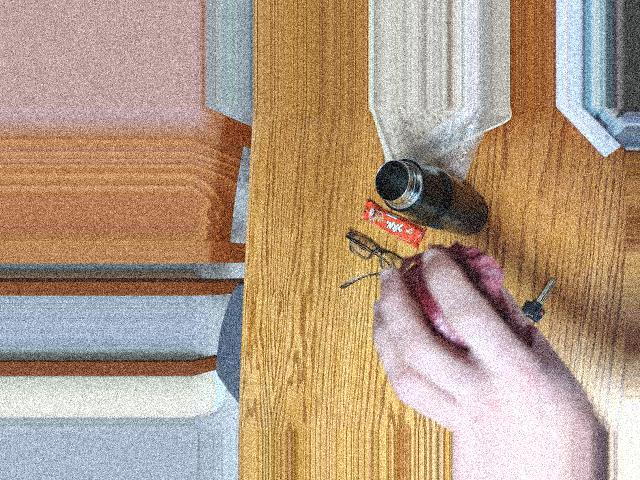onion: (394, 267, 525, 364)
